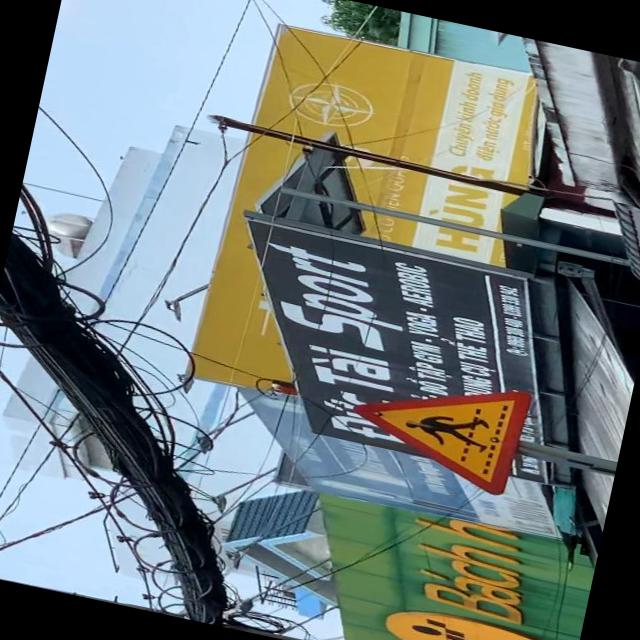W-224: (343, 358, 531, 497)
